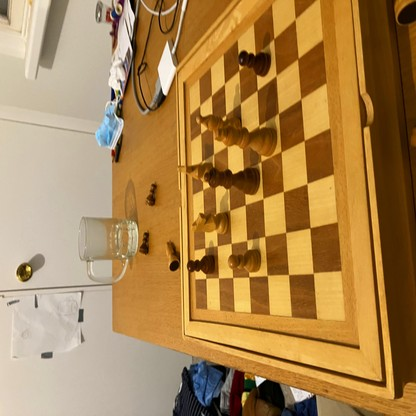bishop_white: (196, 116, 240, 132)
king_white: (214, 128, 276, 157)
knight_white: (192, 212, 229, 235), (177, 166, 214, 179)
pawn_black: (239, 50, 271, 75), (186, 256, 214, 274), (139, 231, 148, 254), (146, 185, 155, 205)
pawn_white: (229, 251, 262, 272)
queen_black: (204, 170, 259, 195)
queen_white: (166, 240, 179, 273)
